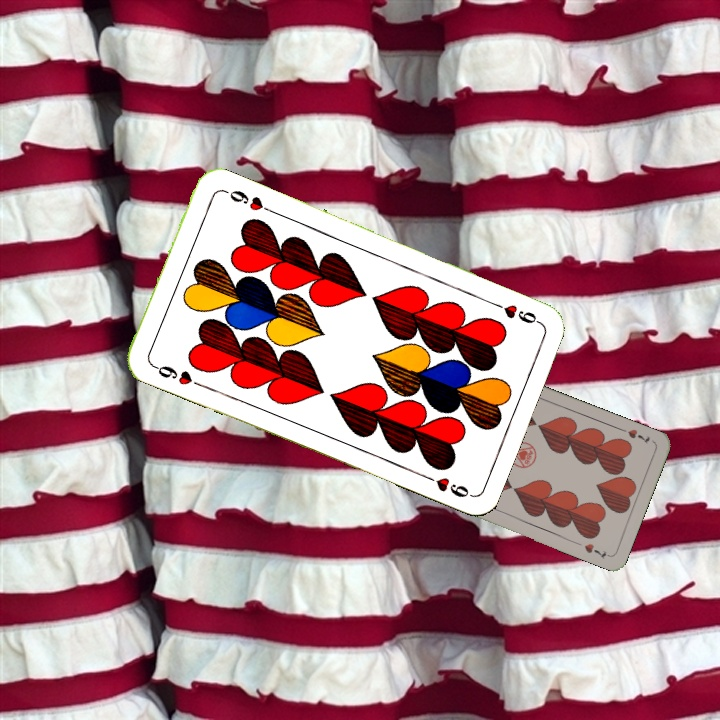H7: (617, 424, 652, 446)
H9: (486, 297, 543, 327), (147, 360, 195, 388)
